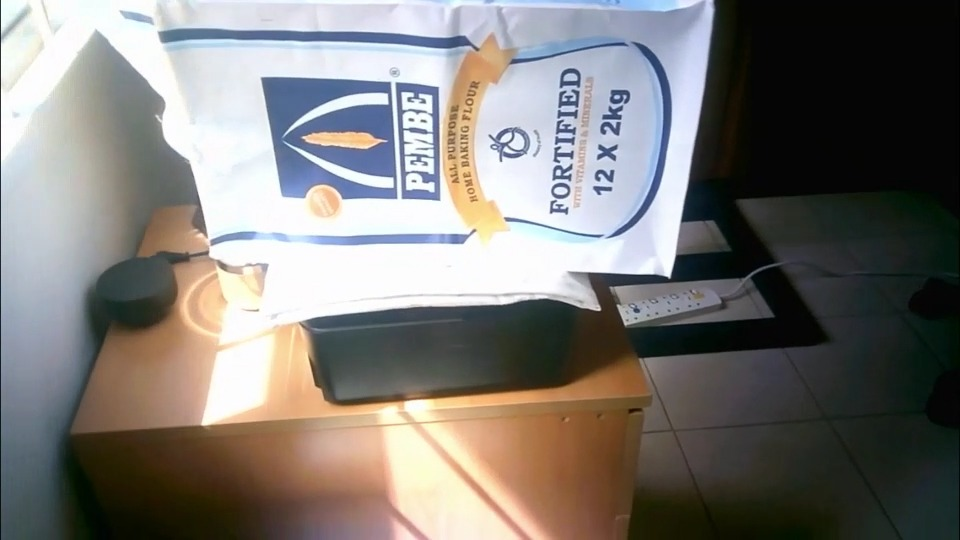wheat_flour_blue_label: (147, 2, 716, 274)
